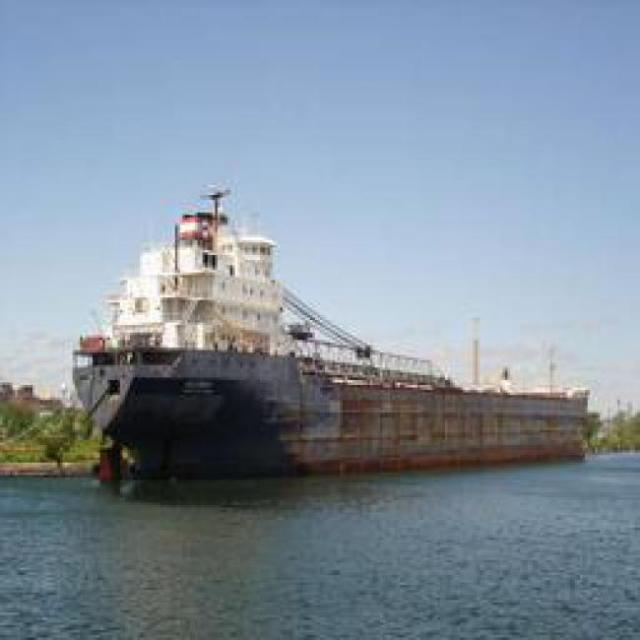boat: (62, 210, 595, 477)
